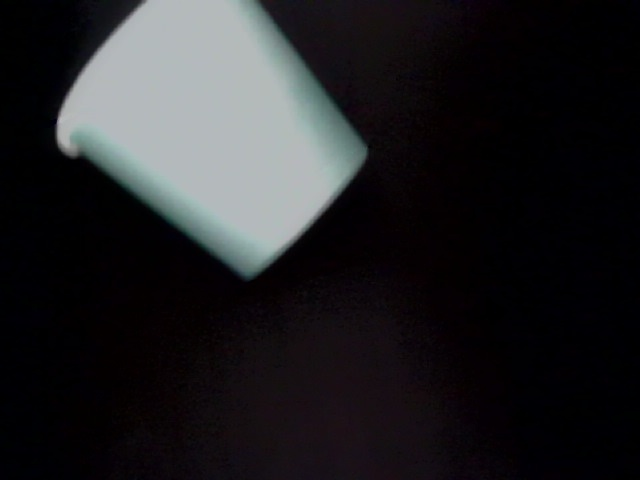CYLJ: (152, 48, 255, 148)
